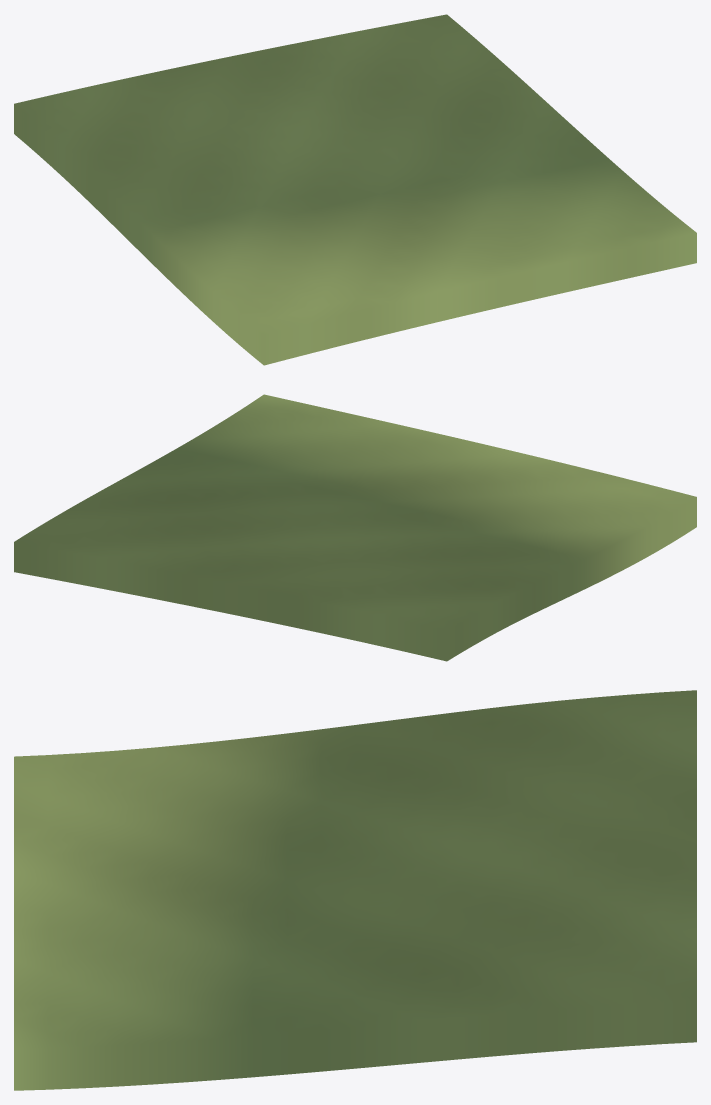
3 renders of one model, top to bottom at view 1: azimuth 30°, elevation 25°; view 2: azimuth 150°, elevation 25°; view 3: azimuth 270°, elevation 25°, orthographic. The views are drawn at different scales.
Parts seen in each view (by area): view 1: terrain; view 2: terrain; view 3: terrain.
Part boxes in pixels (x1,y1,x2,y2): terrain: (14, 14, 696, 365); terrain: (14, 394, 696, 661); terrain: (14, 690, 696, 1090).
Bounding box in the file's own units: 30 × 5.43 × 30.
